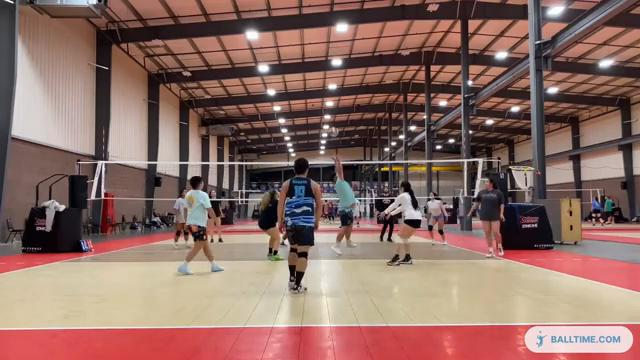Player: (278, 158, 321, 292), (178, 176, 223, 274), (380, 181, 421, 265), (467, 178, 504, 257), (258, 189, 283, 260), (425, 192, 446, 244), (173, 189, 188, 248), (208, 189, 222, 242), (379, 215, 395, 241)
Set: (325, 153, 359, 259)
ball: (328, 126, 341, 138)
